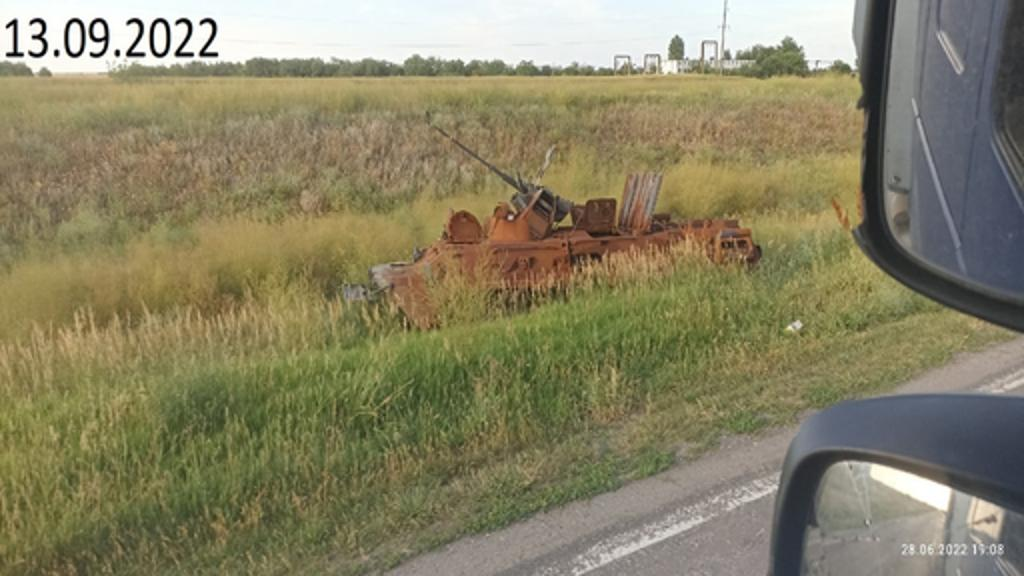APC-IFV: (362, 166, 758, 346)
